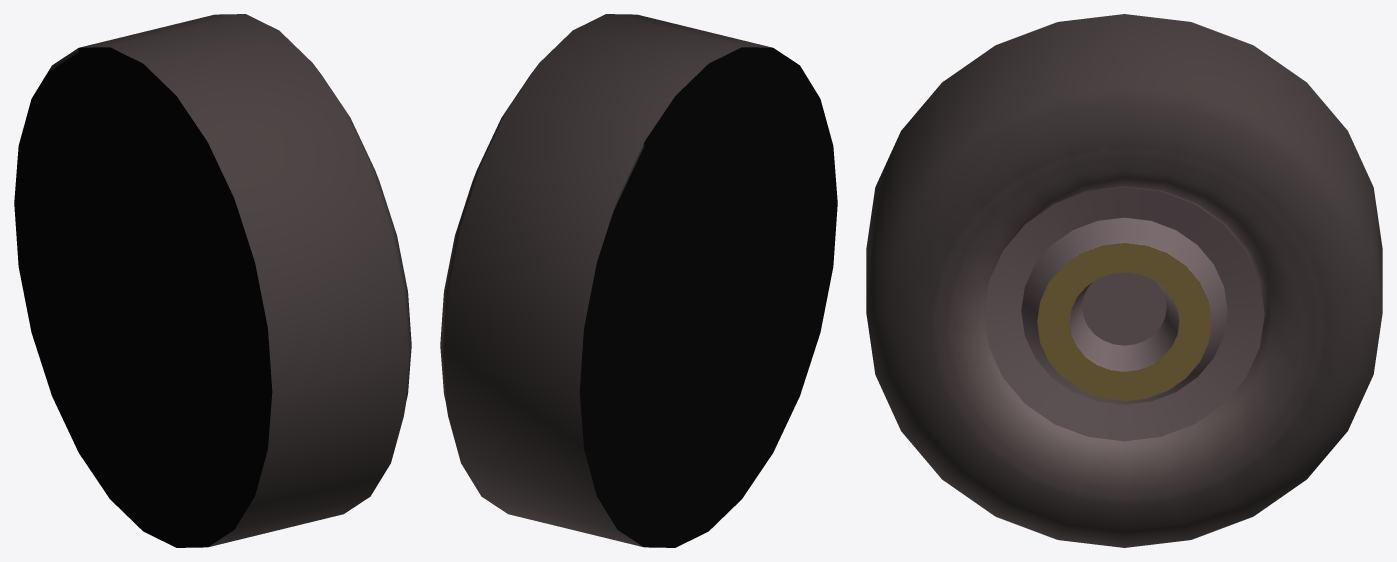
Rendered from wheel.fbx.
3 renders of one model, left to right at view 1: azimuth 30°, elevation 25°; view 2: azimuth 150°, elevation 25°; view 3: azimuth 270°, elevation 25°, orthographic.
Parts seen in each view (by area): view 1: wheel-front-R; view 2: wheel-front-R; view 3: wheel-front-R.
Boxes of the visible parts, left/top/right/bottom form: wheel-front-R: left=14, top=14, right=411, bottom=547; wheel-front-R: left=440, top=14, right=837, bottom=547; wheel-front-R: left=866, top=14, right=1382, bottom=547.
Size of the model in its own units: 42.62 by 120 by 120.
